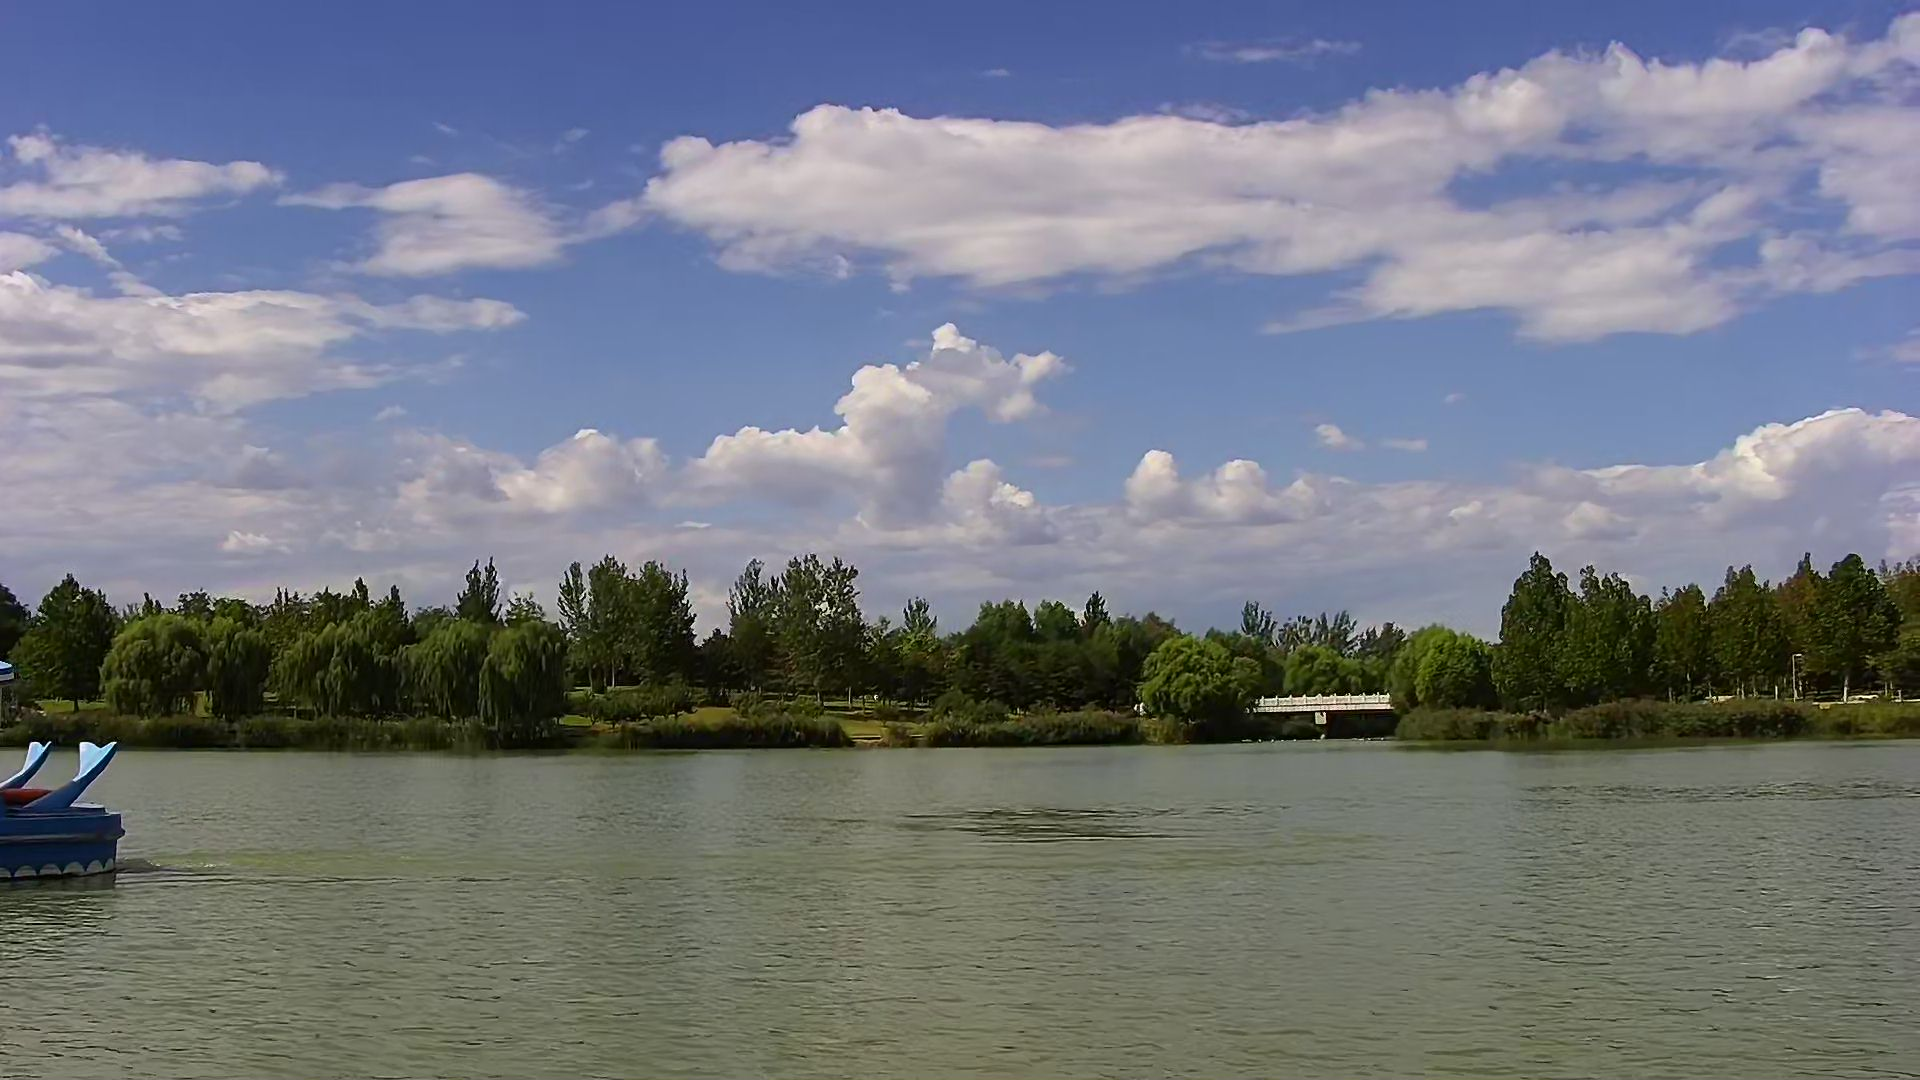boat: (1, 659, 127, 882)
bridge: (1262, 694, 1395, 738)
